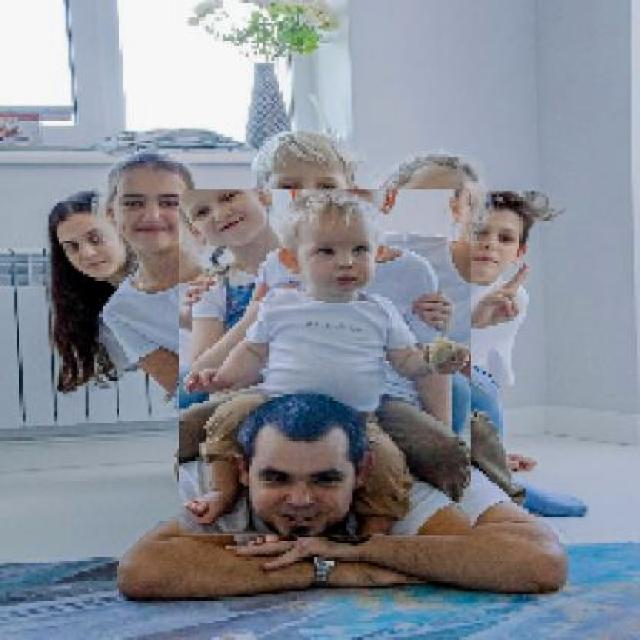child: (178, 189, 471, 537), (364, 147, 478, 364)
